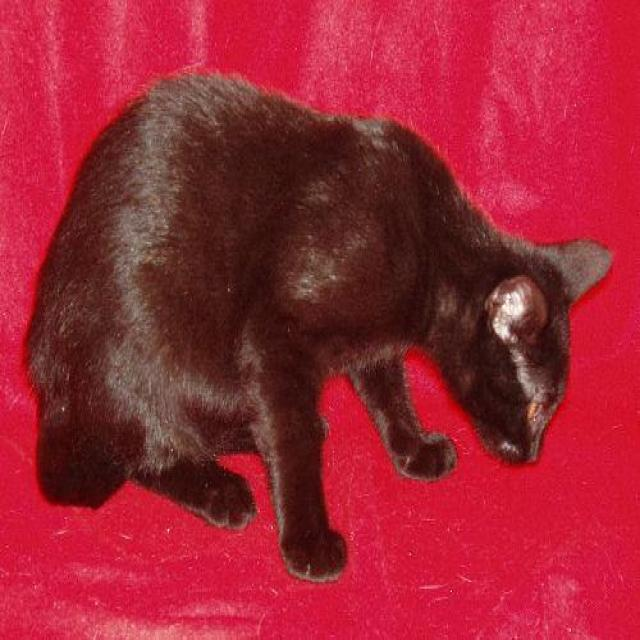cat: (29, 70, 617, 582)
